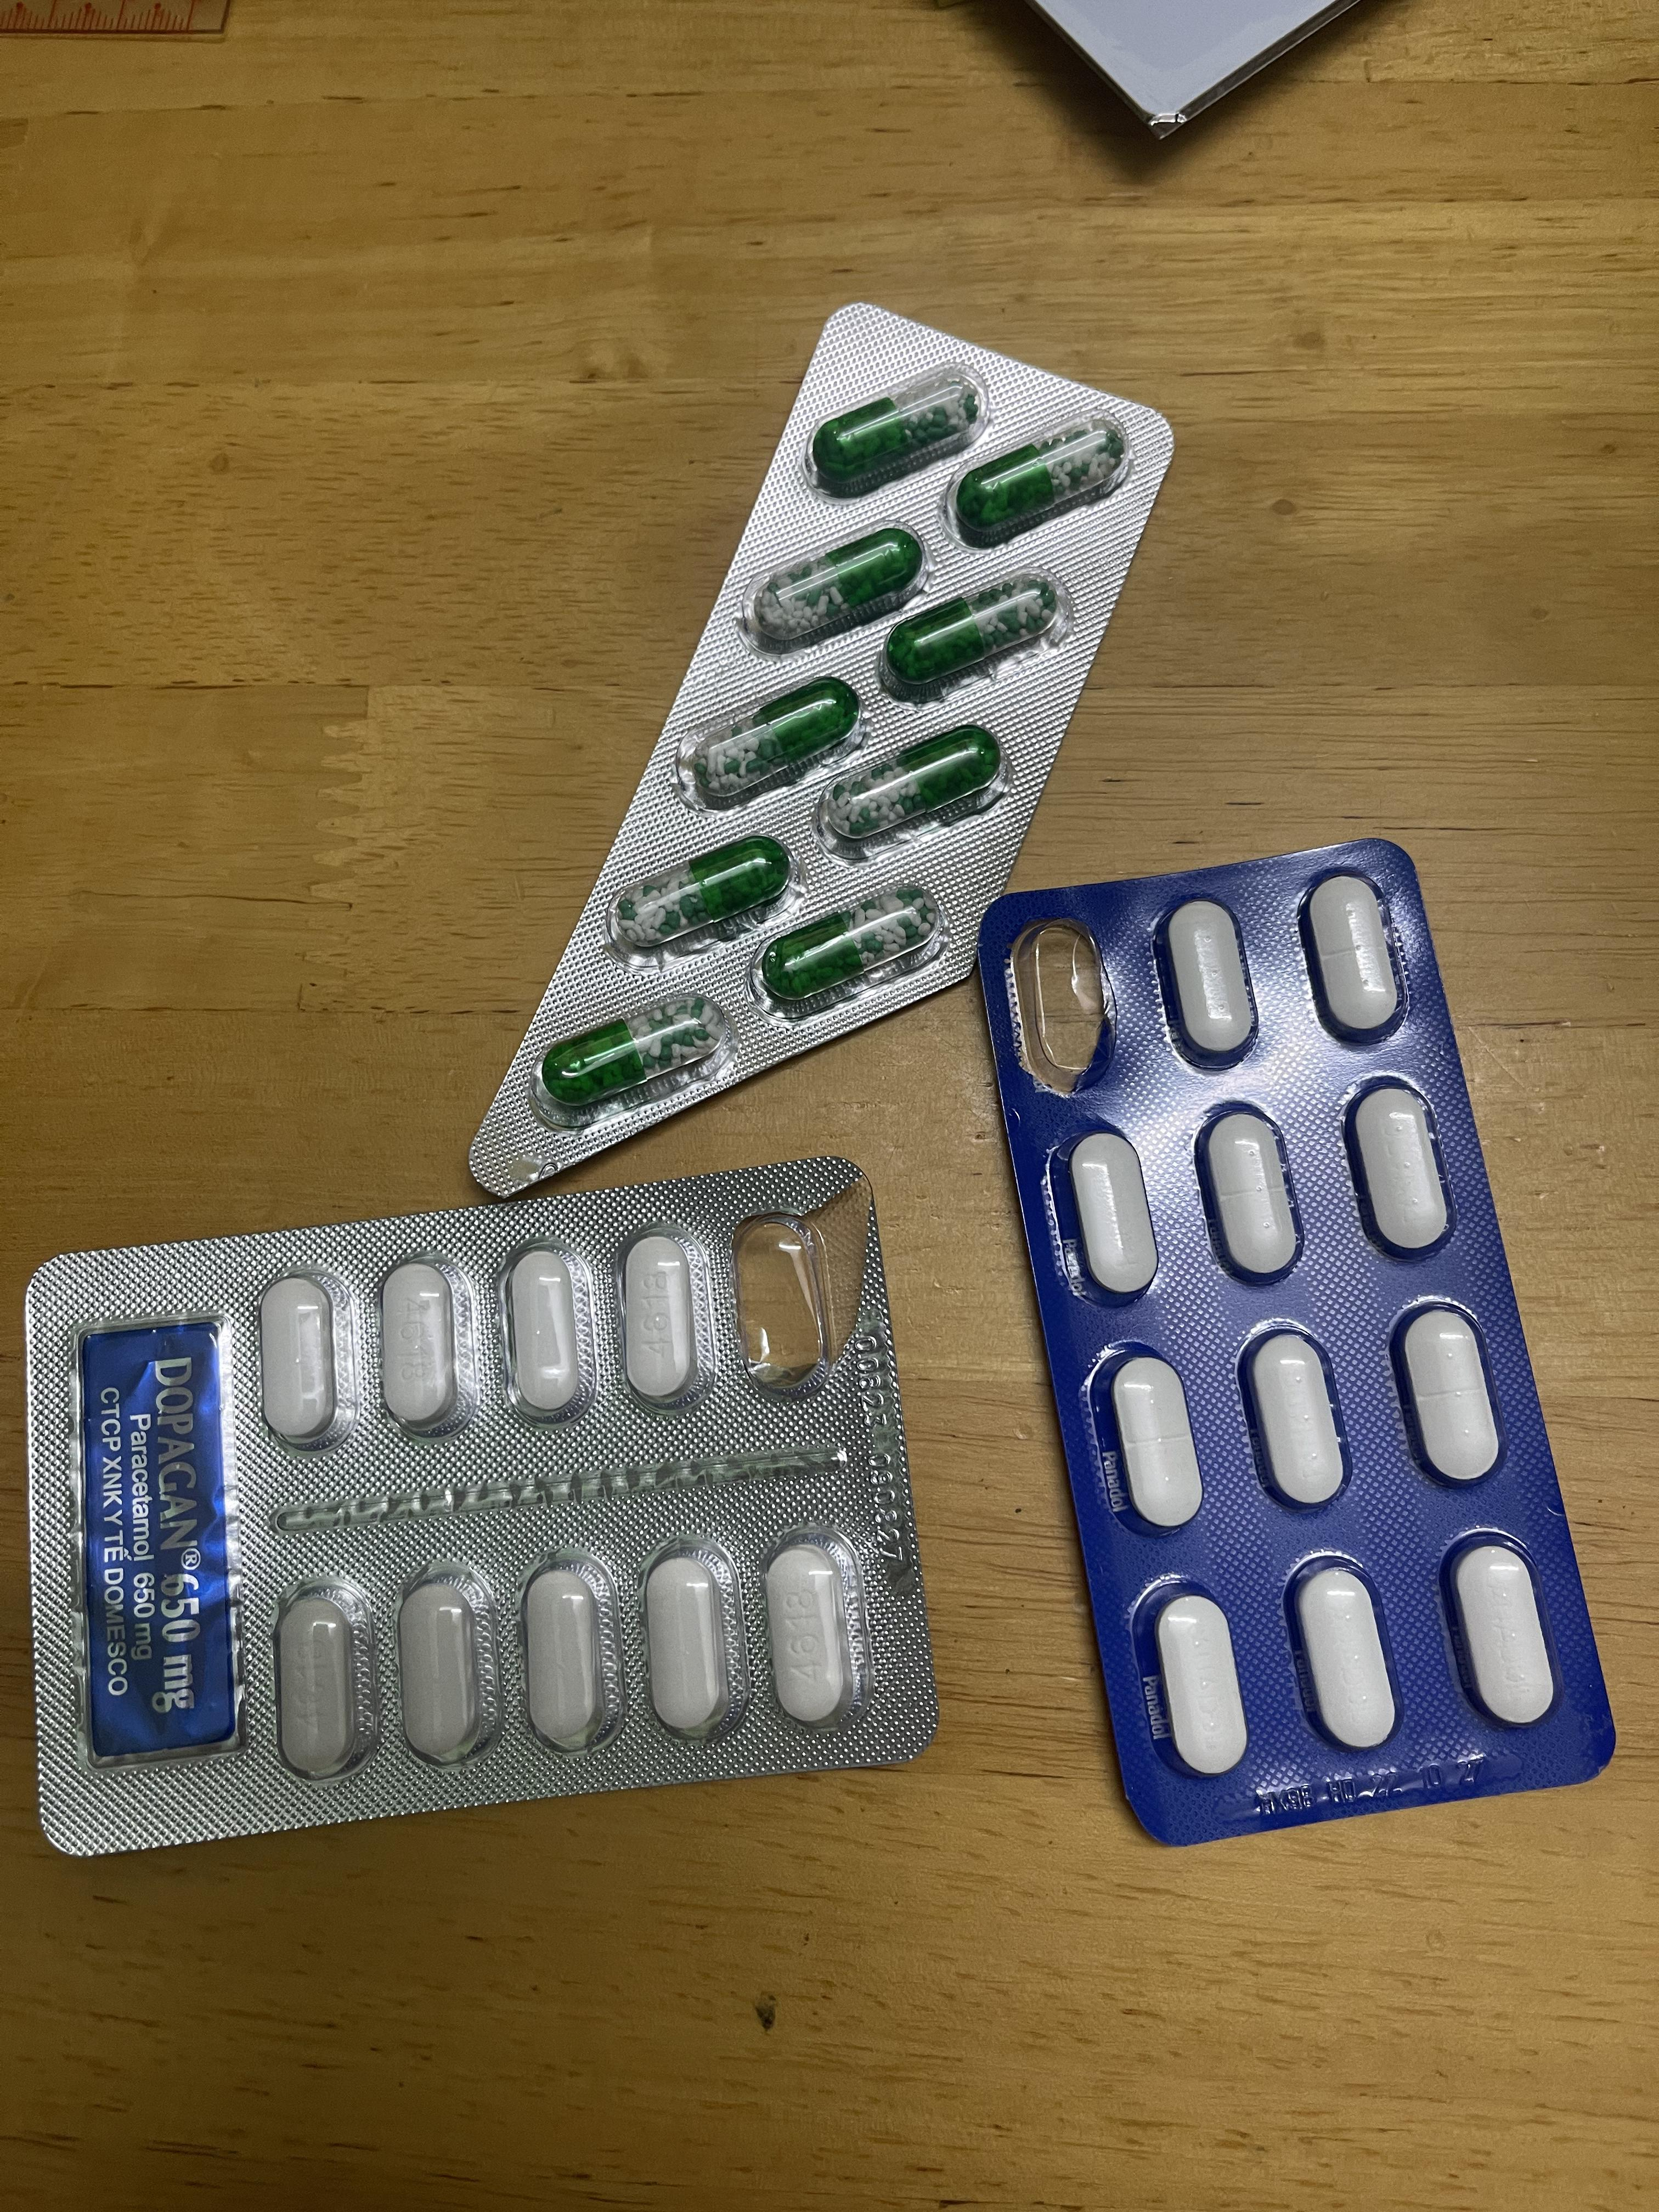Paracetamol_350mg: (1392, 1301, 1504, 1487), (1291, 1564, 1399, 1754), (1448, 1541, 1556, 1730), (1152, 1588, 1249, 1777), (1300, 874, 1406, 1043), (1199, 1108, 1300, 1284), (1351, 1085, 1453, 1258), (1246, 1331, 1345, 1508), (1108, 1355, 1201, 1533), (1162, 902, 1256, 1064), (1068, 1134, 1157, 1299)
Paracetamol_500mg: (760, 1534, 863, 1733), (396, 1573, 491, 1770), (519, 1561, 615, 1757), (272, 1587, 366, 1784), (641, 1548, 735, 1740), (500, 1244, 594, 1421), (617, 1230, 708, 1407), (376, 1259, 469, 1432), (254, 1273, 343, 1447)
Paracetamol_650mg: (828, 723, 1006, 840), (542, 993, 720, 1108), (762, 894, 939, 1008), (887, 578, 1063, 693), (688, 683, 856, 801), (812, 378, 981, 491), (755, 533, 922, 644), (620, 840, 788, 948), (960, 423, 1124, 533)
